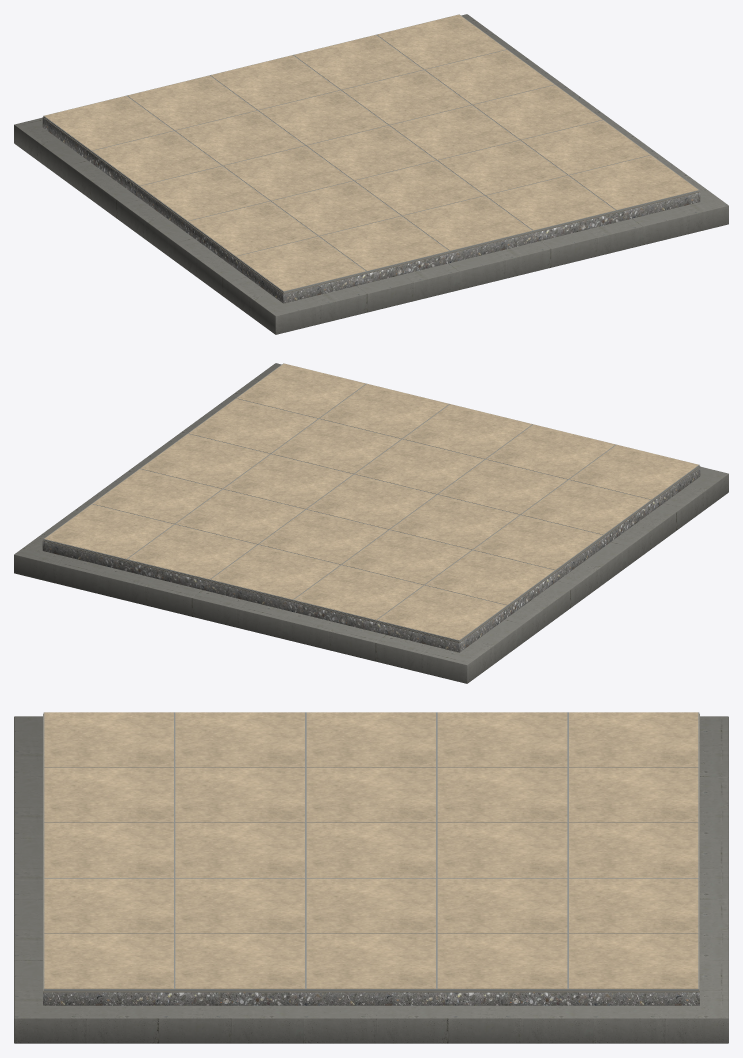
The model's file is KIT-PIS-02.glb.
3 views of the same model, one above another, from view 1: azimuth 30°, elevation 25°; view 2: azimuth 150°, elevation 25°; view 3: azimuth 270°, elevation 25° (orthographic). The views are drawn at different scales.
Visible parts, largest first — view 1: KIT-PIS-02_laje, KIT-PIS-02_contrapiso, KIT-PIS-02_rejunte, KIT-PIS-02_p15, KIT-PIS-02_p22, KIT-PIS-02_p2, KIT-PIS-02_p3, KIT-PIS-02_p24, KIT-PIS-02_p0, KIT-PIS-02_p1, KIT-PIS-02_p6, KIT-PIS-02_p9 (+17 smaller); view 2: KIT-PIS-02_laje, KIT-PIS-02_contrapiso, KIT-PIS-02_rejunte, KIT-PIS-02_p20, KIT-PIS-02_p2, KIT-PIS-02_p3, KIT-PIS-02_p5, KIT-PIS-02_p8, KIT-PIS-02_p11, KIT-PIS-02_p22, KIT-PIS-02_p0, KIT-PIS-02_p1 (+17 smaller); view 3: KIT-PIS-02_laje, KIT-PIS-02_contrapiso, KIT-PIS-02_p3, KIT-PIS-02_p8, KIT-PIS-02_p18, KIT-PIS-02_p0, KIT-PIS-02_p1, KIT-PIS-02_p5, KIT-PIS-02_p6, KIT-PIS-02_p15, KIT-PIS-02_p16, KIT-PIS-02_p2 (+17 smaller).
Boxes of the visible parts, bbox=[...] form: KIT-PIS-02_laje: bbox=[14, 14, 728, 334]; KIT-PIS-02_contrapiso: bbox=[42, 118, 700, 303]; KIT-PIS-02_rejunte: bbox=[43, 14, 699, 292]; KIT-PIS-02_p15: bbox=[486, 175, 615, 230]; KIT-PIS-02_p22: bbox=[473, 85, 602, 139]; KIT-PIS-02_p2: bbox=[140, 166, 269, 220]; KIT-PIS-02_p3: bbox=[92, 131, 221, 185]; KIT-PIS-02_p24: bbox=[377, 14, 506, 69]; KIT-PIS-02_p0: bbox=[236, 236, 365, 291]; KIT-PIS-02_p1: bbox=[188, 201, 317, 256]; KIT-PIS-02_p6: bbox=[271, 181, 400, 235]; KIT-PIS-02_p9: bbox=[127, 75, 256, 130]; KIT-PIS-02_laje: bbox=[14, 363, 728, 683]; KIT-PIS-02_contrapiso: bbox=[42, 467, 700, 652]; KIT-PIS-02_rejunte: bbox=[43, 363, 699, 641]; KIT-PIS-02_p20: bbox=[236, 363, 365, 418]; KIT-PIS-02_p2: bbox=[473, 515, 602, 569]; KIT-PIS-02_p3: bbox=[425, 550, 554, 605]; KIT-PIS-02_p5: bbox=[486, 424, 615, 479]; KIT-PIS-02_p8: bbox=[342, 530, 471, 584]; KIT-PIS-02_p11: bbox=[355, 439, 484, 493]; KIT-PIS-02_p22: bbox=[140, 434, 269, 488]; KIT-PIS-02_p0: bbox=[569, 445, 698, 499]; KIT-PIS-02_p1: bbox=[521, 480, 650, 534]; KIT-PIS-02_laje: bbox=[14, 716, 728, 1043]; KIT-PIS-02_contrapiso: bbox=[43, 992, 699, 1005]; KIT-PIS-02_p3: bbox=[437, 712, 567, 767]; KIT-PIS-02_p8: bbox=[437, 767, 567, 822]; KIT-PIS-02_p18: bbox=[437, 878, 567, 933]; KIT-PIS-02_p0: bbox=[44, 712, 173, 767]; KIT-PIS-02_p1: bbox=[175, 712, 304, 767]; KIT-PIS-02_p5: bbox=[44, 767, 173, 822]; KIT-PIS-02_p6: bbox=[175, 767, 304, 822]; KIT-PIS-02_p15: bbox=[44, 878, 173, 933]; KIT-PIS-02_p16: bbox=[175, 878, 304, 933]; KIT-PIS-02_p2: bbox=[306, 712, 435, 767].
Bounding box in the file's own units: 2.47 × 0.1625 × 2.47.
5 materials, 5 textured.
